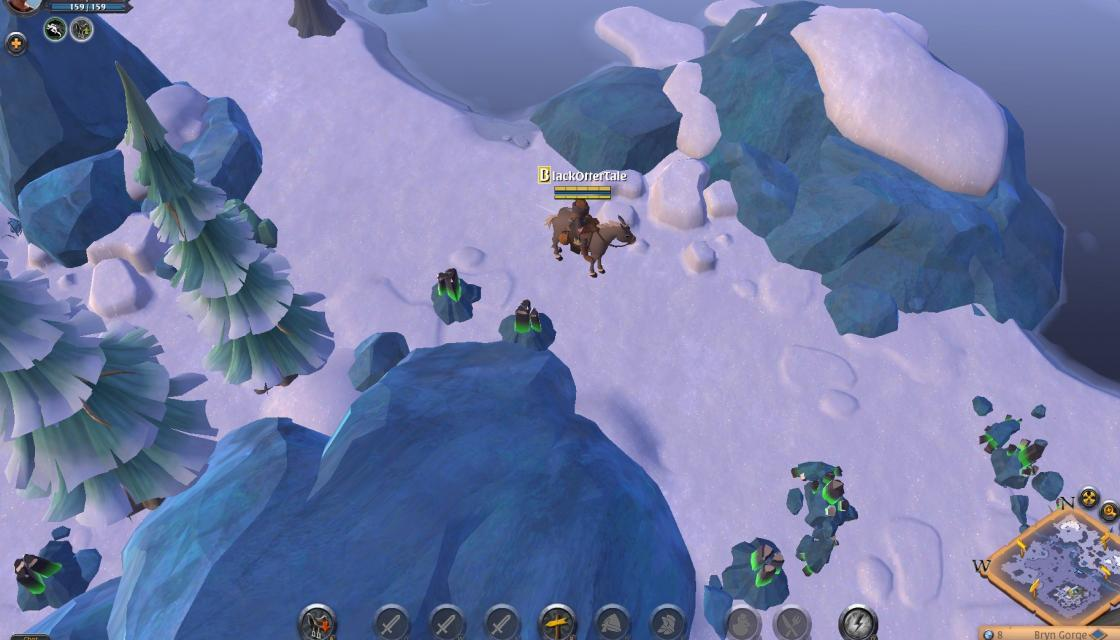tinore: (4, 540, 88, 610), (725, 534, 797, 613), (982, 431, 1060, 491), (799, 462, 860, 530), (498, 294, 560, 352), (430, 259, 478, 329)
